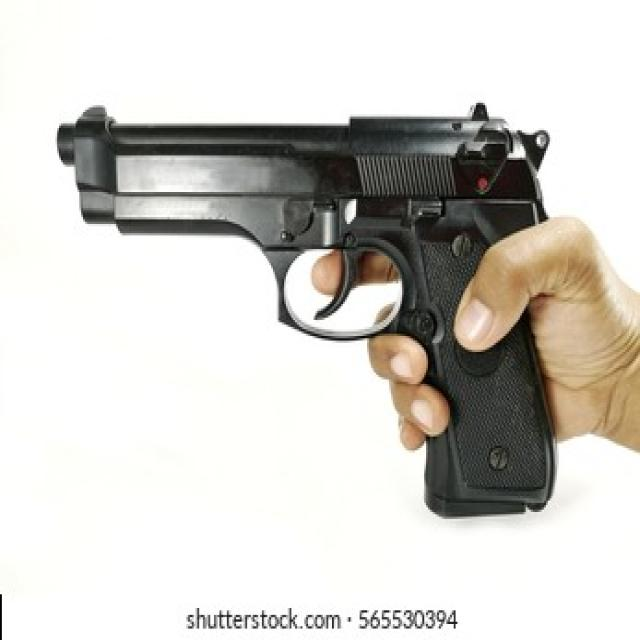HandGun: (55, 105, 555, 519)
